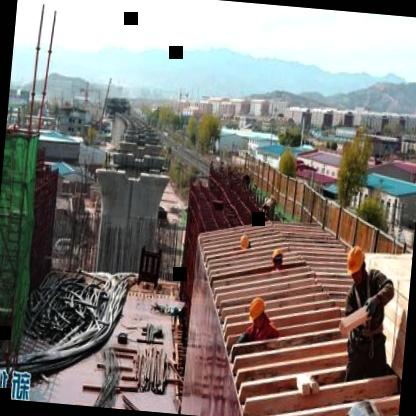helmet: (342, 242, 370, 288), (246, 292, 272, 330), (236, 231, 254, 254), (271, 248, 287, 270)
